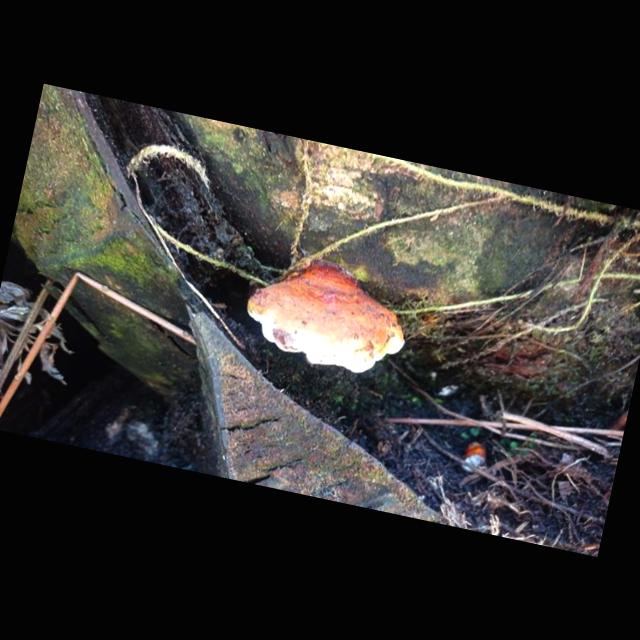ganoderma: (236, 241, 419, 383)
primordium: (460, 440, 491, 476)
